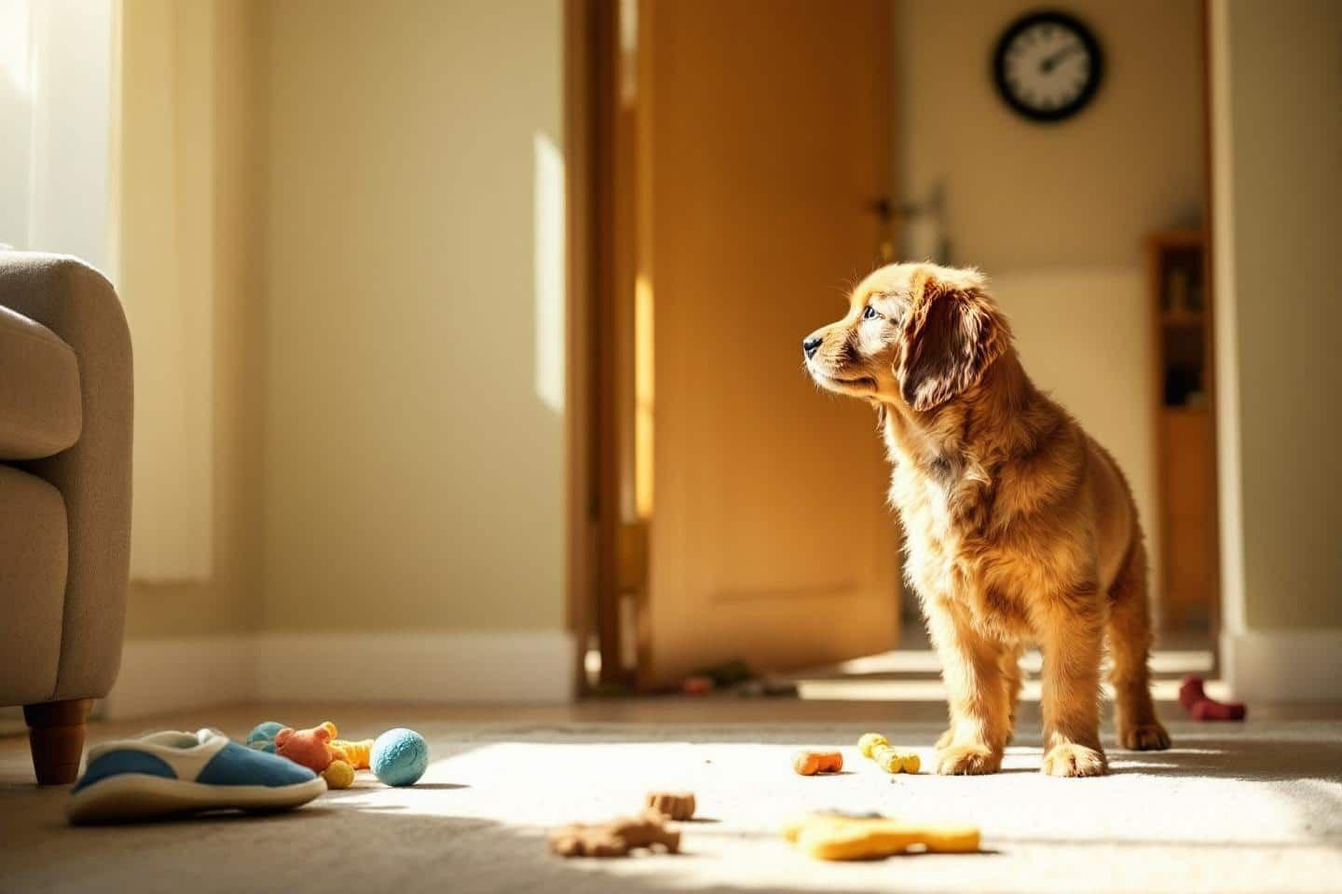puppy-dog: (803, 263, 1170, 774)
